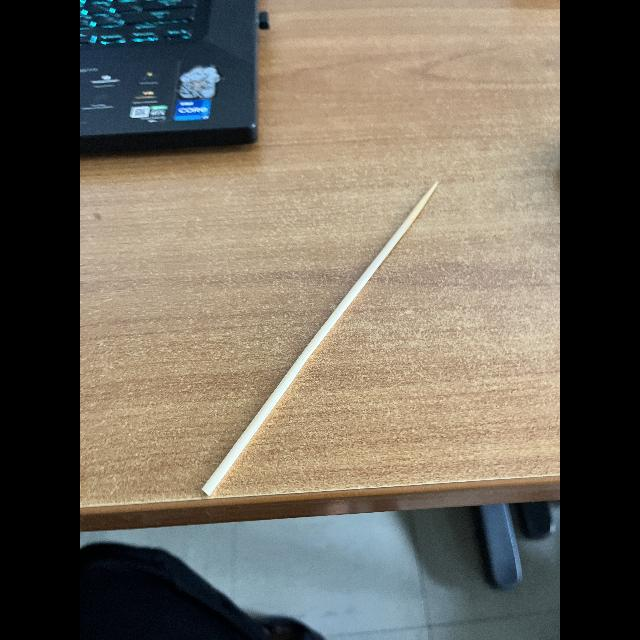stick: (185, 168, 452, 518)
